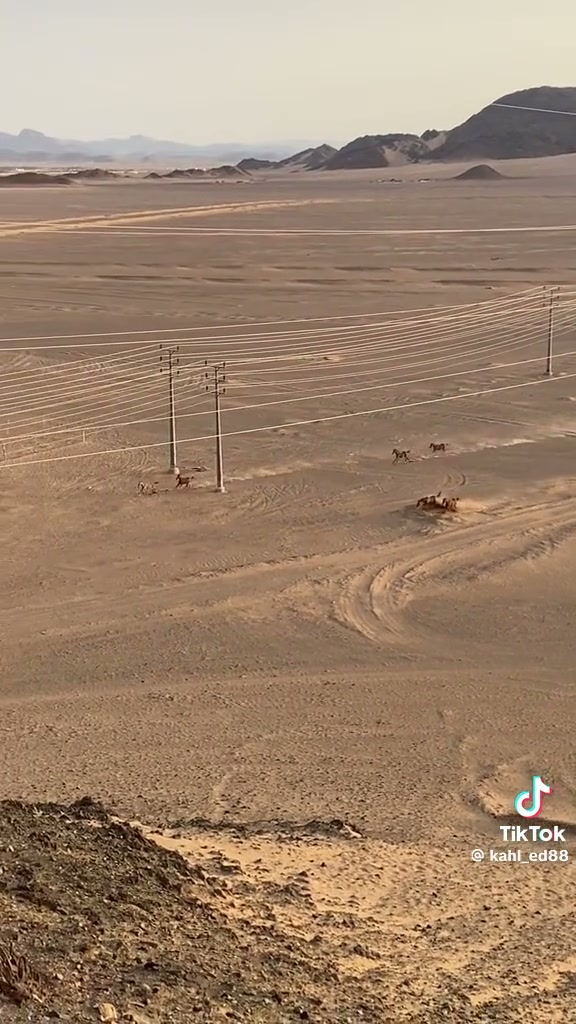animal: (0, 943, 45, 1005), (416, 492, 458, 511), (416, 492, 440, 506), (138, 481, 157, 494), (442, 497, 458, 512), (392, 448, 409, 462), (176, 473, 191, 487), (416, 496, 432, 507), (429, 442, 446, 452), (138, 481, 146, 493), (191, 466, 206, 472)
vehicle_track: (334, 498, 575, 646)
